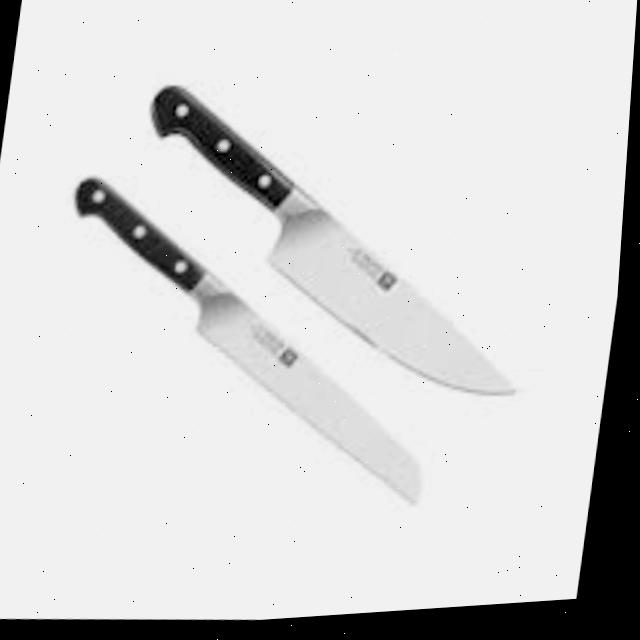Knife: (118, 60, 563, 425), (40, 154, 472, 529)
